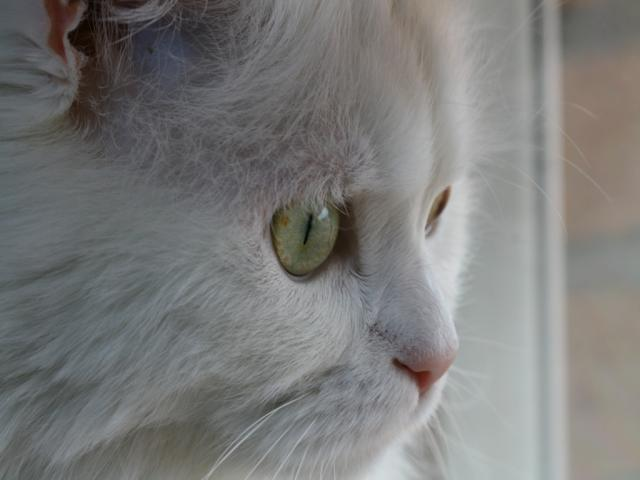Cat: (0, 2, 610, 479)
